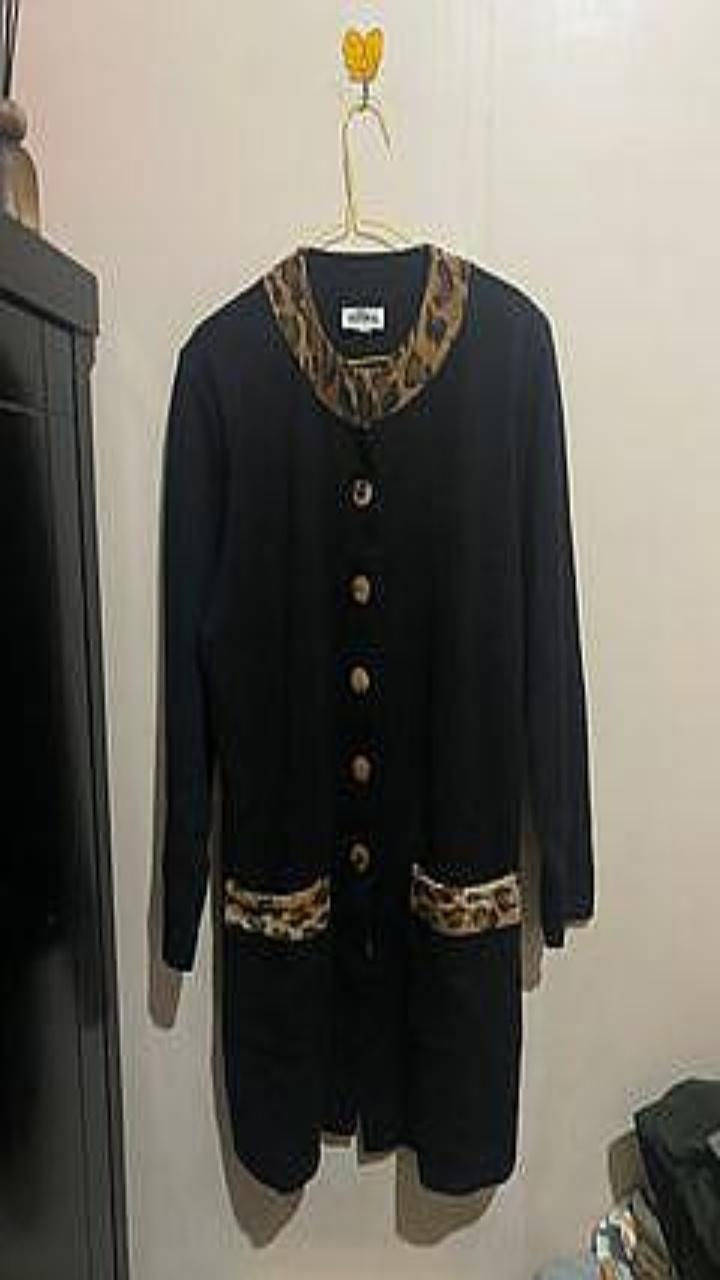Coat: (162, 242, 593, 1193)
